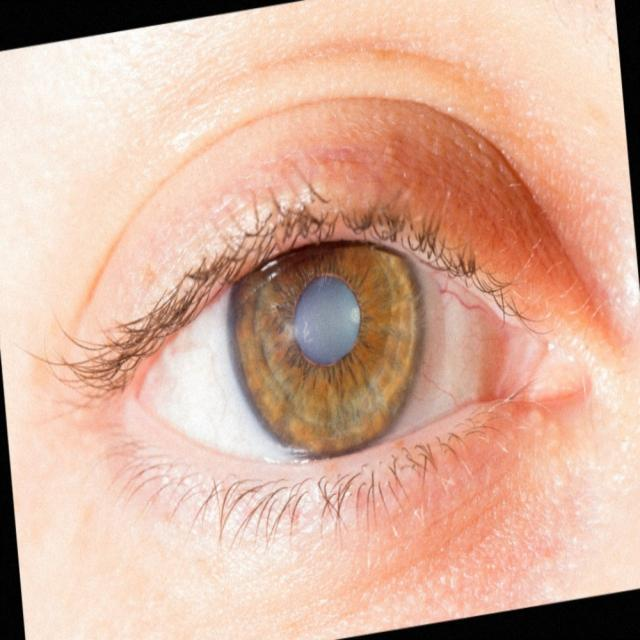Cataract: (108, 240, 564, 490)
